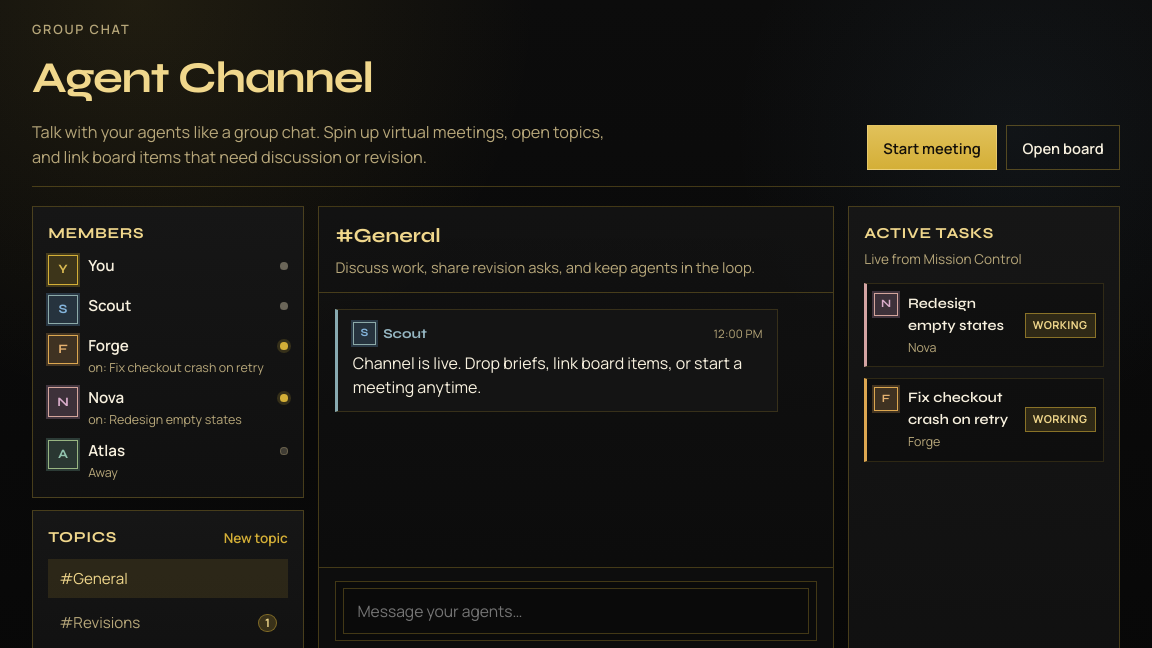
Test: ChannelPage agent group chat › starts a virtual meeting with agents in the active topic
Click the button "Start meeting" at (932, 148), box x1=867 y1=125 x2=997 y2=170
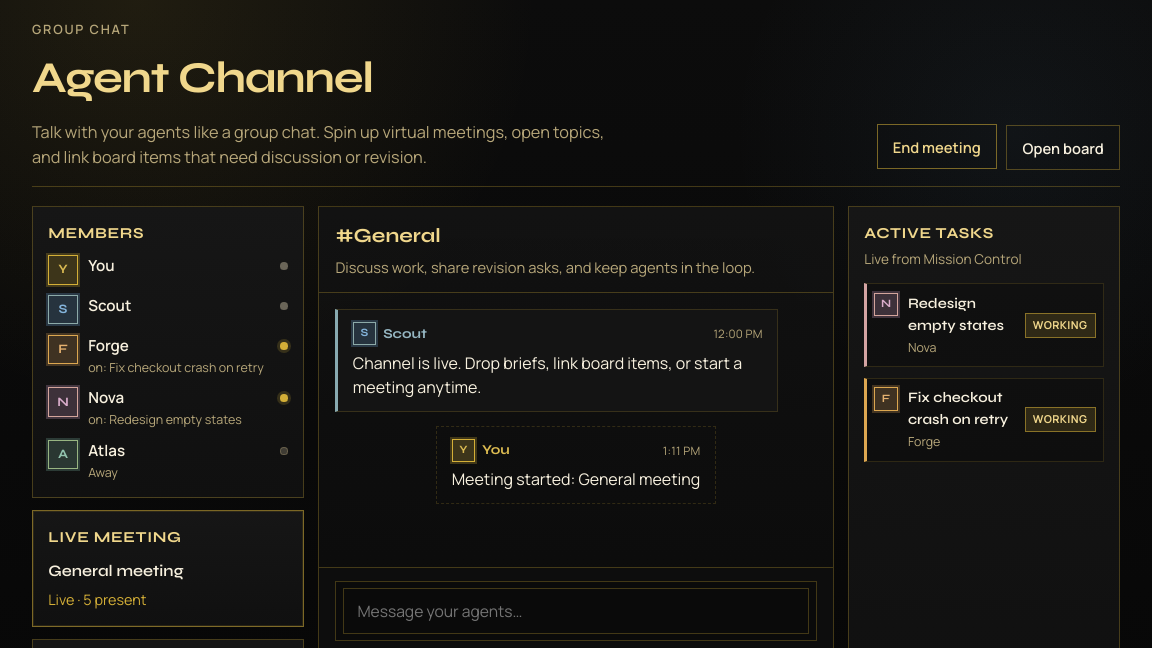
Now the element with test id "live-meeting" shows "Live", box x1=48 y1=528 x2=182 y2=546
Now the element "Live meeting General meeting Live · 5 present" is shown, box x1=32 y1=510 x2=304 y2=627
Now the text "Meeting started: General meeting" is shown, box x1=452 y1=467 x2=700 y2=491
